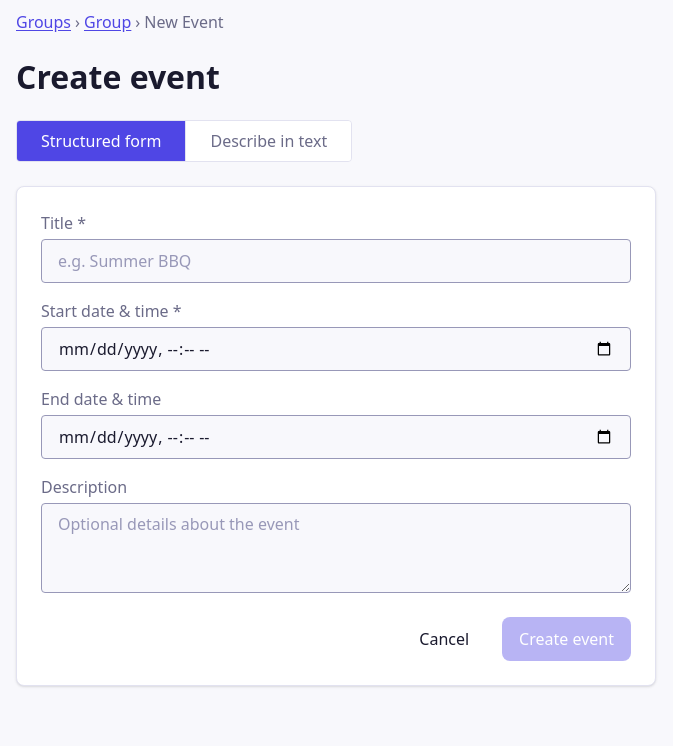
Scenario: EventCreate › shows error message when form submission fails
This screenshot has width=673, height=746.
In the field labelled "Title *": x=336, y=261 [41, 239, 631, 283], type "Team Lunch"
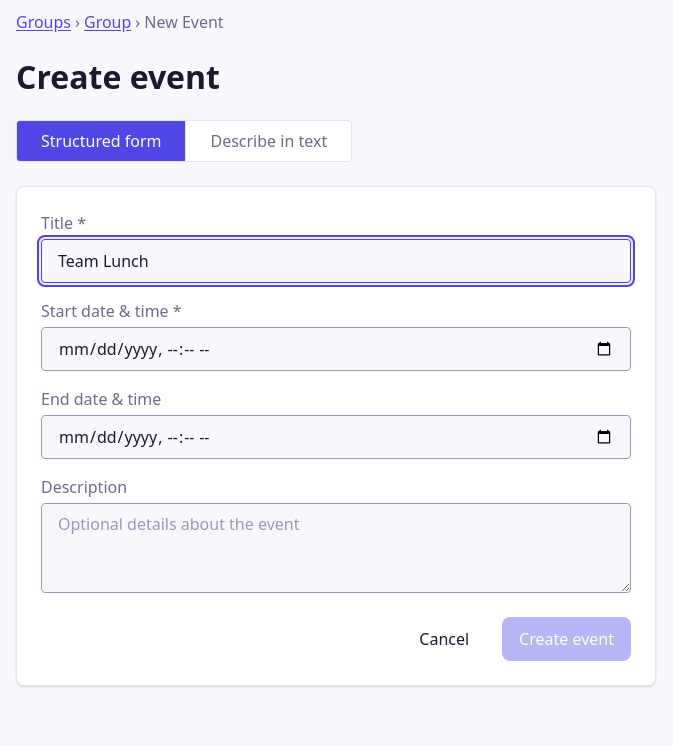
In the field labelled "Start date & time *": x=336, y=349 [41, 327, 631, 371], type "2026-08-01T12:00"
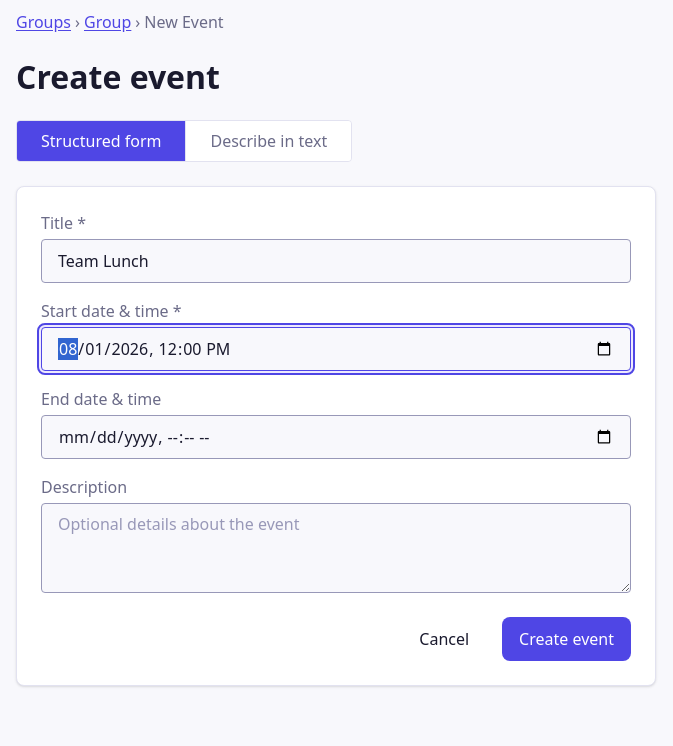
Click the button "Create event": x=567, y=639 [502, 617, 631, 661]
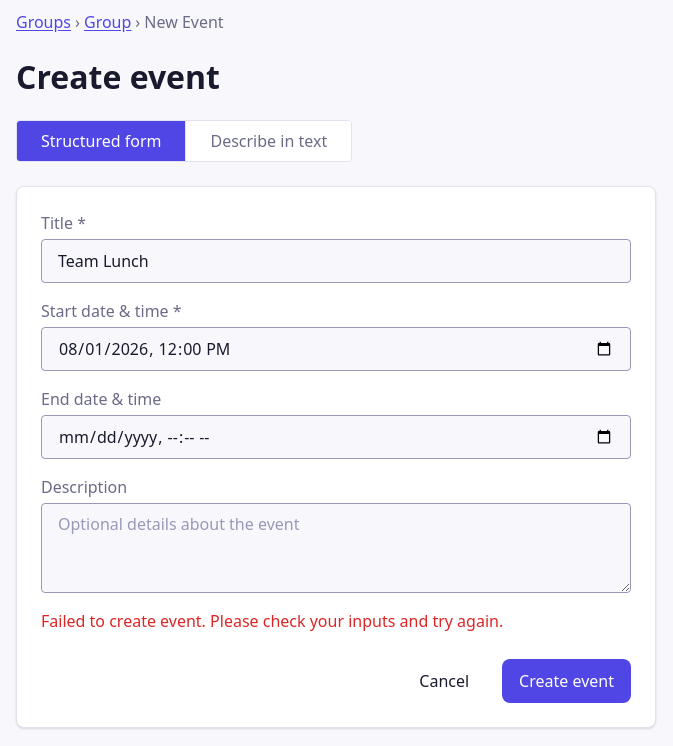
Expected: the message shows "Failed to create event", [41, 610, 503, 632]
